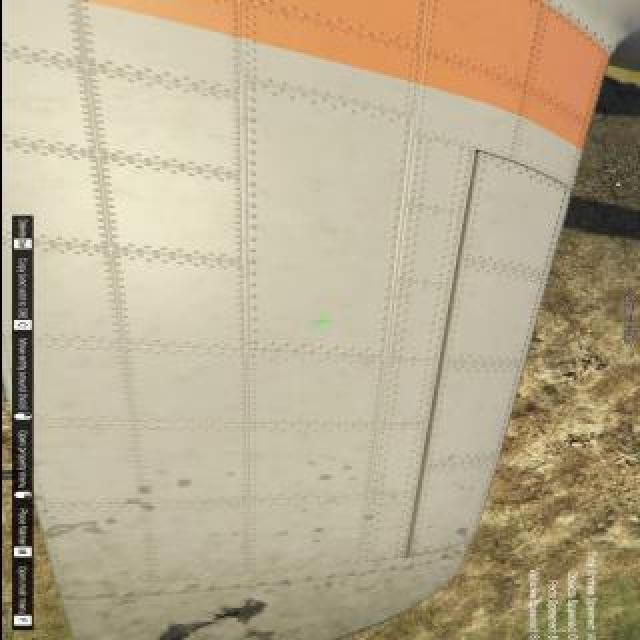dent: (212, 601, 268, 626), (158, 623, 206, 640), (241, 632, 271, 639)
